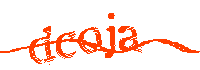a: (116, 24, 140, 53)
c: (56, 28, 79, 59)
d: (29, 26, 55, 63)
j: (103, 12, 117, 61)
o: (76, 27, 103, 54)
